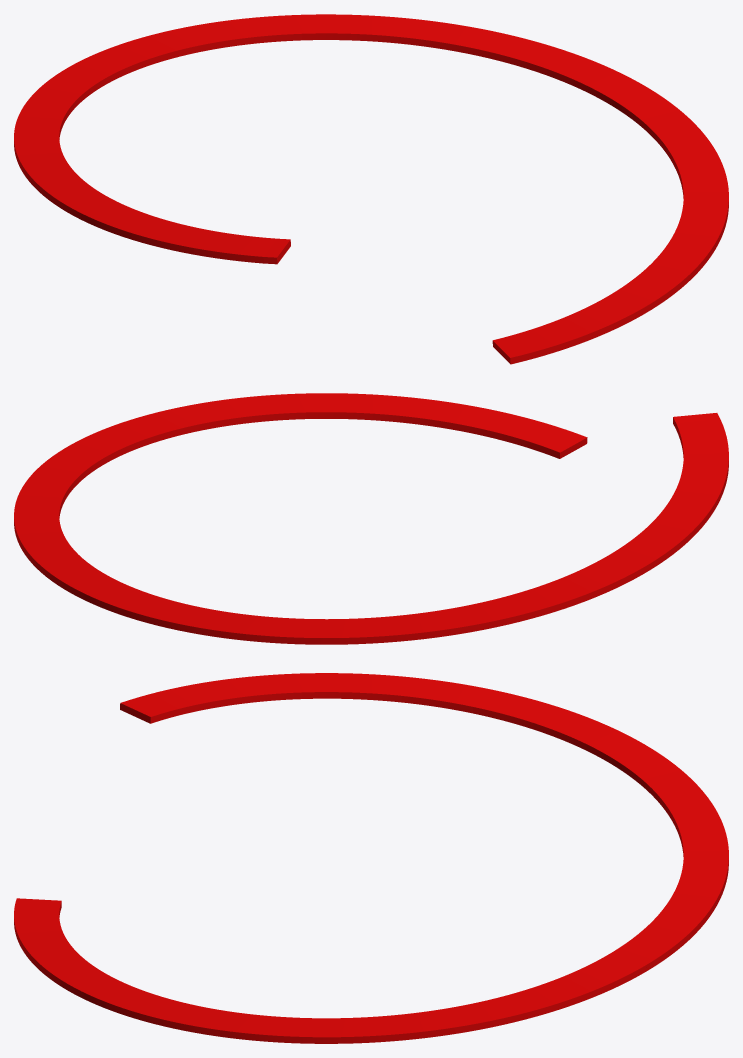
Rendered from level3PlugCollision.fbx.
3 renders of one model, top to bottom at view 1: azimuth 30°, elevation 25°; view 2: azimuth 150°, elevation 25°; view 3: azimuth 270°, elevation 25°, orthographic.
Parts seen in each view (by area): view 1: MiddleFloorCollision787; view 2: MiddleFloorCollision787; view 3: MiddleFloorCollision787.
Boxes of the visible parts, box(x1,y1,x2,y2) form: MiddleFloorCollision787: box(14, 14, 728, 364); MiddleFloorCollision787: box(14, 393, 728, 644); MiddleFloorCollision787: box(14, 673, 728, 1043).
Size of the model in its own units: 10649 by 1864 by 10649.
